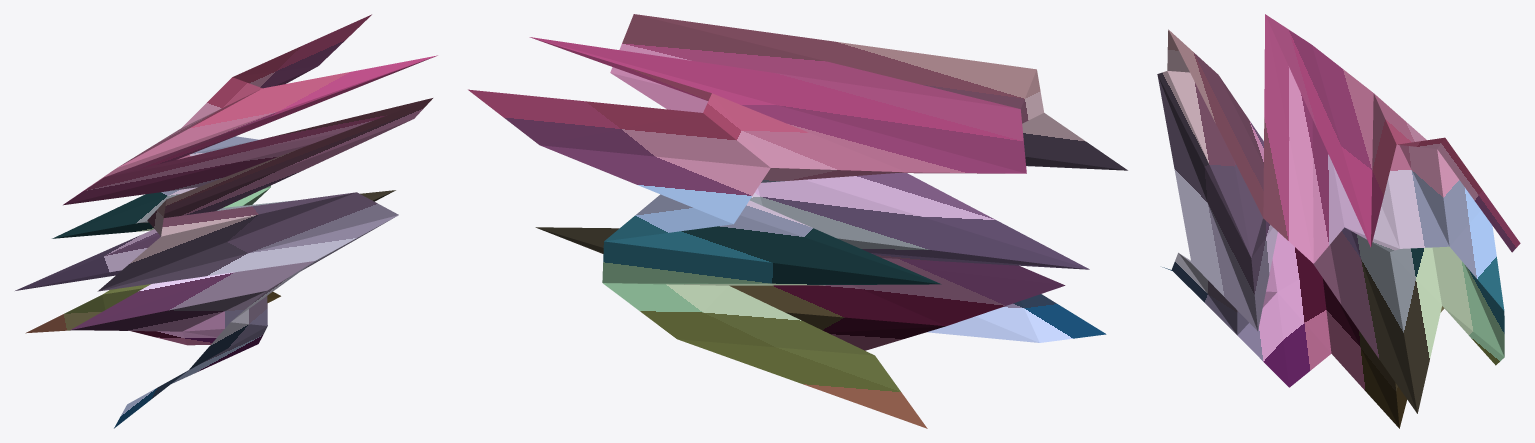
3 views of the same model, side by side, from view 1: azimuth 30°, elevation 25°; view 2: azimuth 150°, elevation 25°; view 3: azimuth 270°, elevation 25° (orthographic). The views are drawn at different scales.
Size of the model in its own units: 42.3 by 19.13 by 23.17.
1 material, 1 textured.
